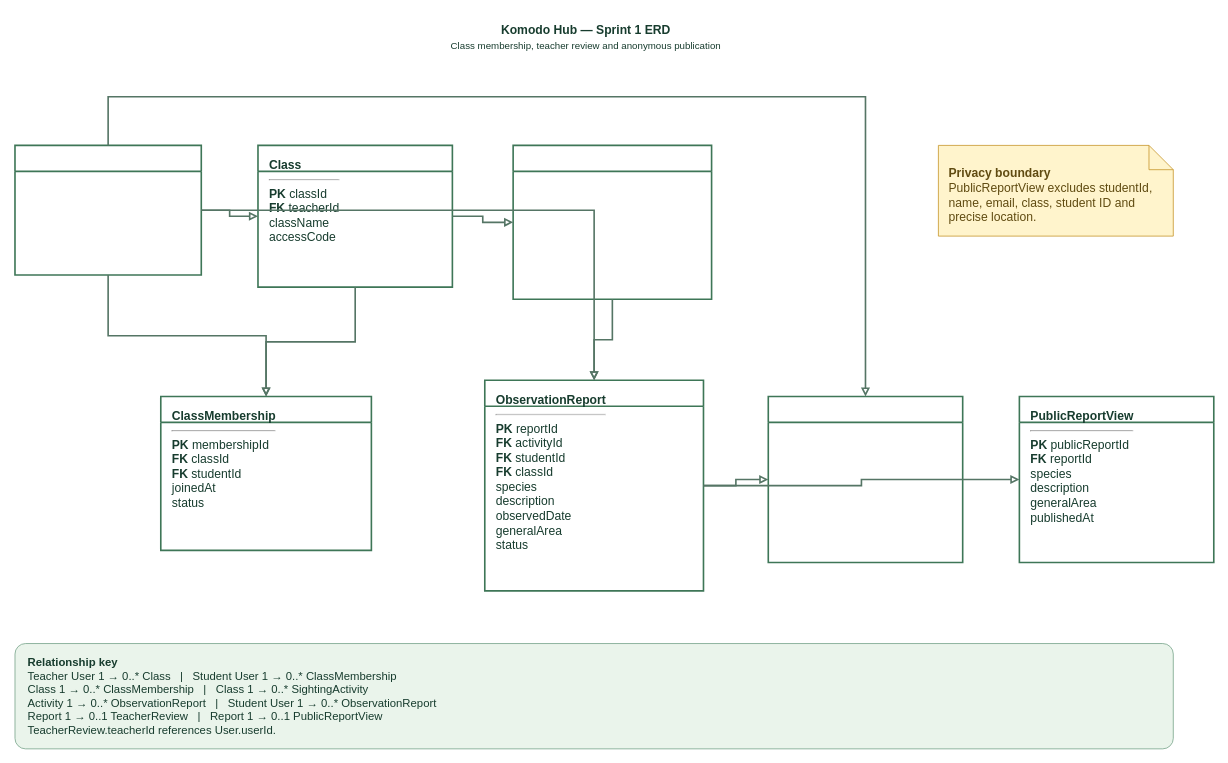
The diagram is 1228 pixels wide and 763 high, and some of its shapes have lost their labels. Here are the shapes that lost their labels. From the top down, the box of each, then its label:
(14, 144, 202, 275): User PK userId name email role
(512, 144, 712, 300): SightingActivity PK activityId FK classId FK teacherId title publishedAt
(767, 395, 963, 563): TeacherReview PK reviewId FK reportId FK teacherId outcome feedback reviewedAt
